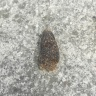Dog: (39, 31, 59, 70)
